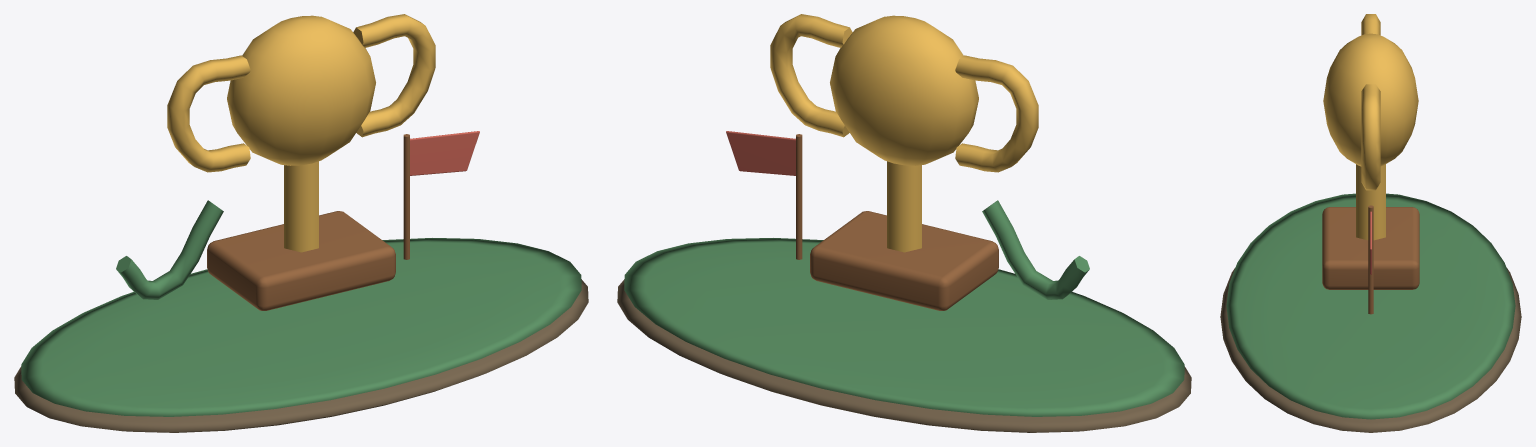
File: complete-second-winning-cup.glb
The picture shows the model from 3 angles, left to right: view 1: azimuth 30°, elevation 25°; view 2: azimuth 150°, elevation 25°; view 3: azimuth 270°, elevation 25°; orthographic projection. The views are drawn at different scales.
Parts seen in each view (by area): view 1: complete-second-winning-cup_surface_01, complete-second-winning-cup_surface_03, complete-second-winning-cup_surface_02, complete-second-winning-cup_surface_00, complete-second-winning-cup_surface_04; view 2: complete-second-winning-cup_surface_01, complete-second-winning-cup_surface_03, complete-second-winning-cup_surface_02, complete-second-winning-cup_surface_00, complete-second-winning-cup_surface_04; view 3: complete-second-winning-cup_surface_01, complete-second-winning-cup_surface_03, complete-second-winning-cup_surface_02, complete-second-winning-cup_surface_00.
Boxes of the visible parts, left/top/right/bottom form: complete-second-winning-cup_surface_01: left=21, top=200, right=581, bottom=416; complete-second-winning-cup_surface_03: left=167, top=14, right=435, bottom=252; complete-second-winning-cup_surface_02: left=207, top=134, right=409, bottom=310; complete-second-winning-cup_surface_00: left=14, top=279, right=588, bottom=432; complete-second-winning-cup_surface_04: left=410, top=131, right=479, bottom=175; complete-second-winning-cup_surface_01: left=624, top=200, right=1184, bottom=416; complete-second-winning-cup_surface_03: left=770, top=14, right=1038, bottom=252; complete-second-winning-cup_surface_02: left=796, top=134, right=998, bottom=310; complete-second-winning-cup_surface_00: left=617, top=279, right=1191, bottom=432; complete-second-winning-cup_surface_04: left=726, top=131, right=795, bottom=175; complete-second-winning-cup_surface_01: left=1226, top=193, right=1515, bottom=419; complete-second-winning-cup_surface_03: left=1323, top=14, right=1418, bottom=240; complete-second-winning-cup_surface_02: left=1322, top=205, right=1419, bottom=314; complete-second-winning-cup_surface_00: left=1220, top=268, right=1521, bottom=432.
Bounding box in the file's own units: 4.56 × 2.66 × 2.5.
